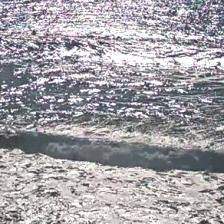surfer: (31, 29, 37, 35)
